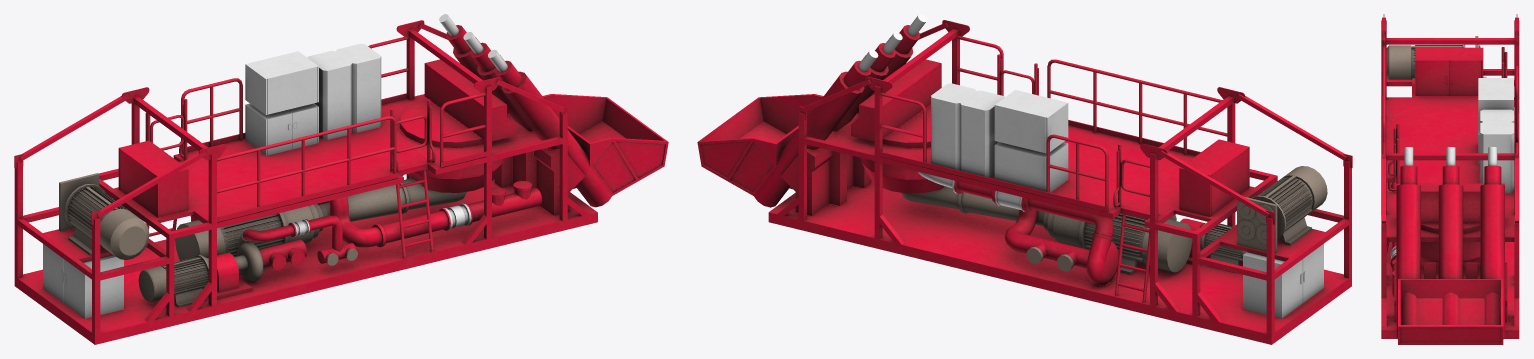
Rendered from index.gltf.
3 views of the same model, side by side, from view 1: azimuth 30°, elevation 25°; view 2: azimuth 150°, elevation 25°; view 3: azimuth 270°, elevation 25° (orthographic). The views are drawn at different scales.
Parts seen in each view (by area): view 1: yalie; view 2: yalie; view 3: yalie.
Part boxes in pixels (x1,y1,x2,y2): yalie: (14,14,668,344); yalie: (697,14,1352,344); yalie: (1381,14,1519,344).
Size of the model in its own units: 8.07 by 2.39 by 1.92.
Materials: 4 (4 with a texture image).
